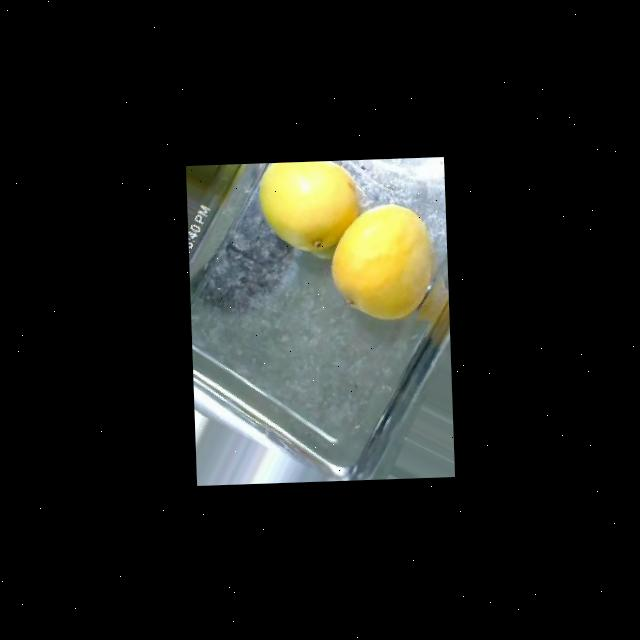Mango: (327, 200, 436, 321), (256, 158, 362, 260)
